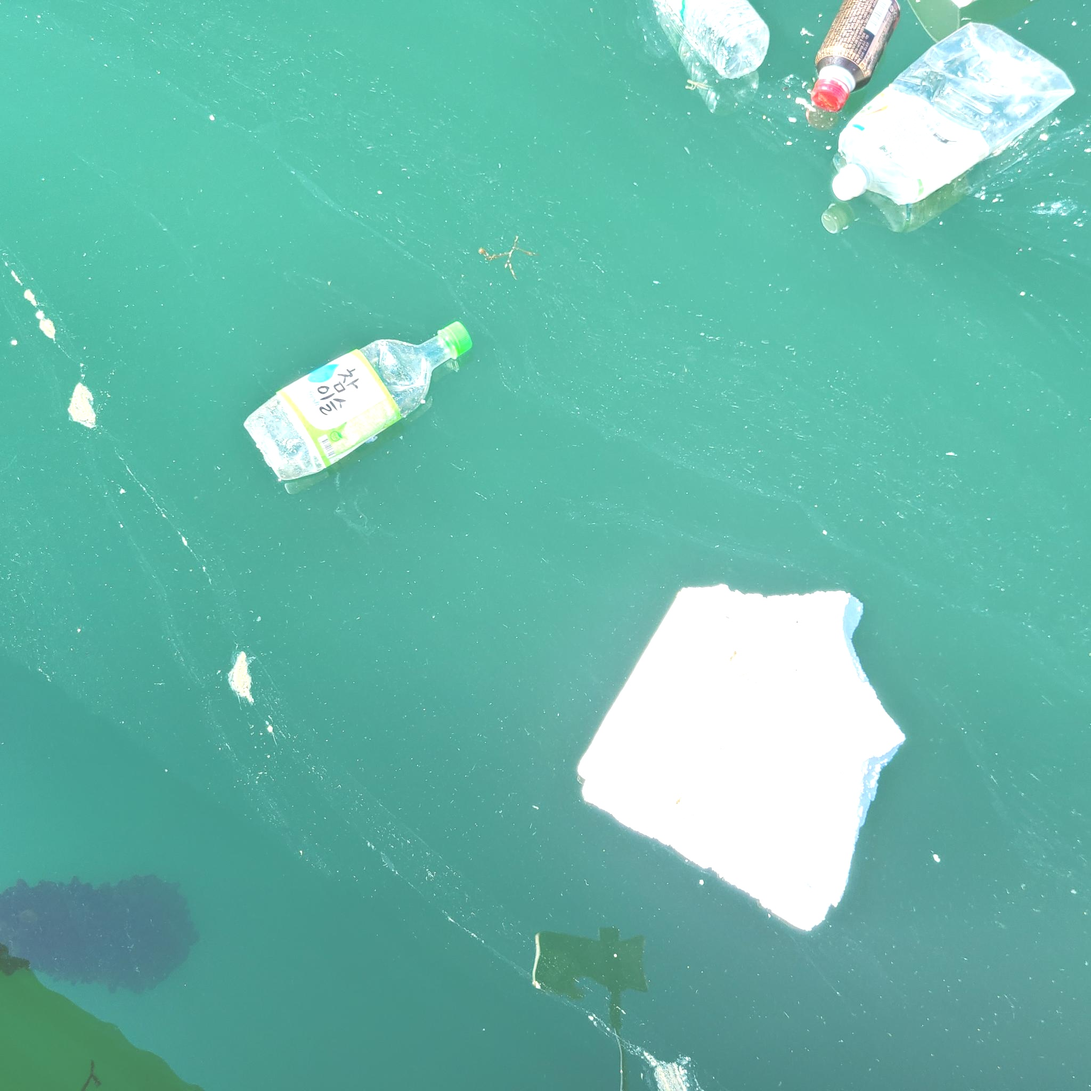sampah_terapung: (579, 584, 907, 931), (832, 22, 1076, 206), (243, 321, 473, 481), (811, 1, 901, 113), (656, 1, 770, 79)
